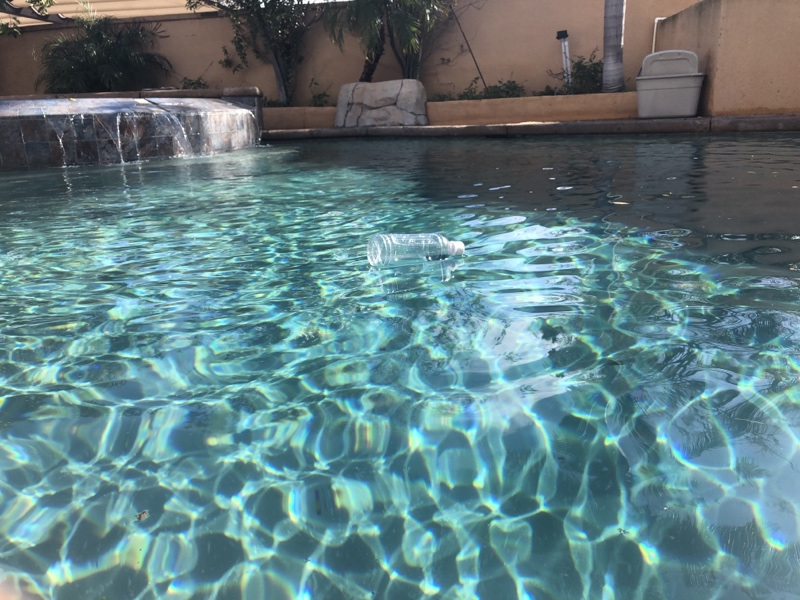Plastic Bottle: (360, 227, 471, 271)
